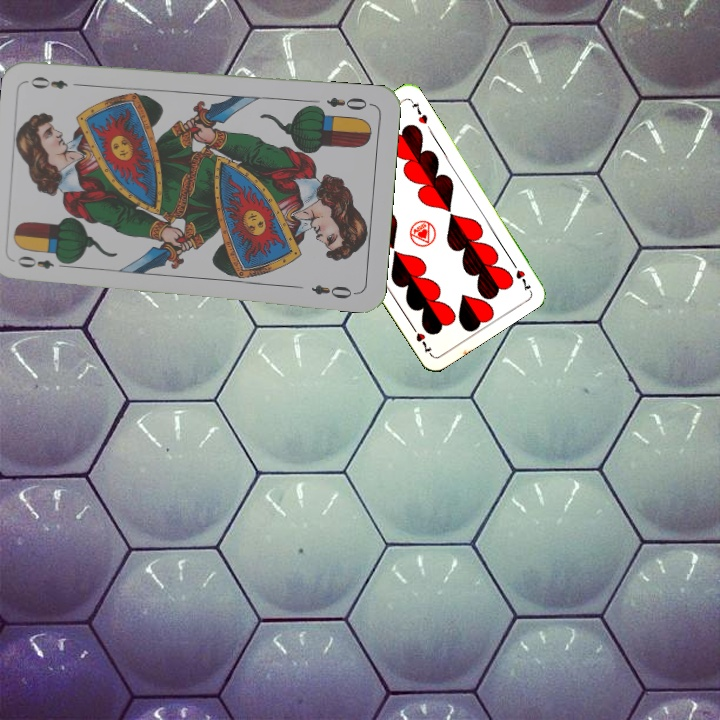EO: (14, 251, 71, 271), (322, 92, 375, 113)
H7: (507, 257, 534, 293)
